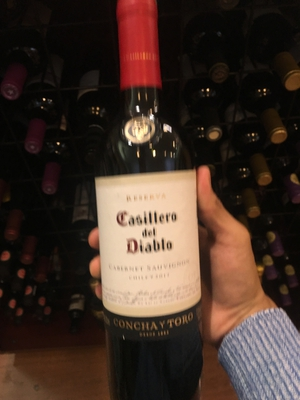casillero del diablo cabernet sauvignon: (93, 16, 201, 400)
